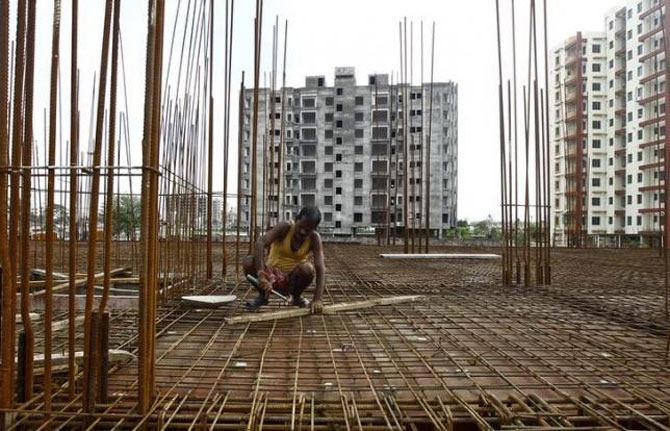NOTSAFE: (264, 204, 323, 290)
